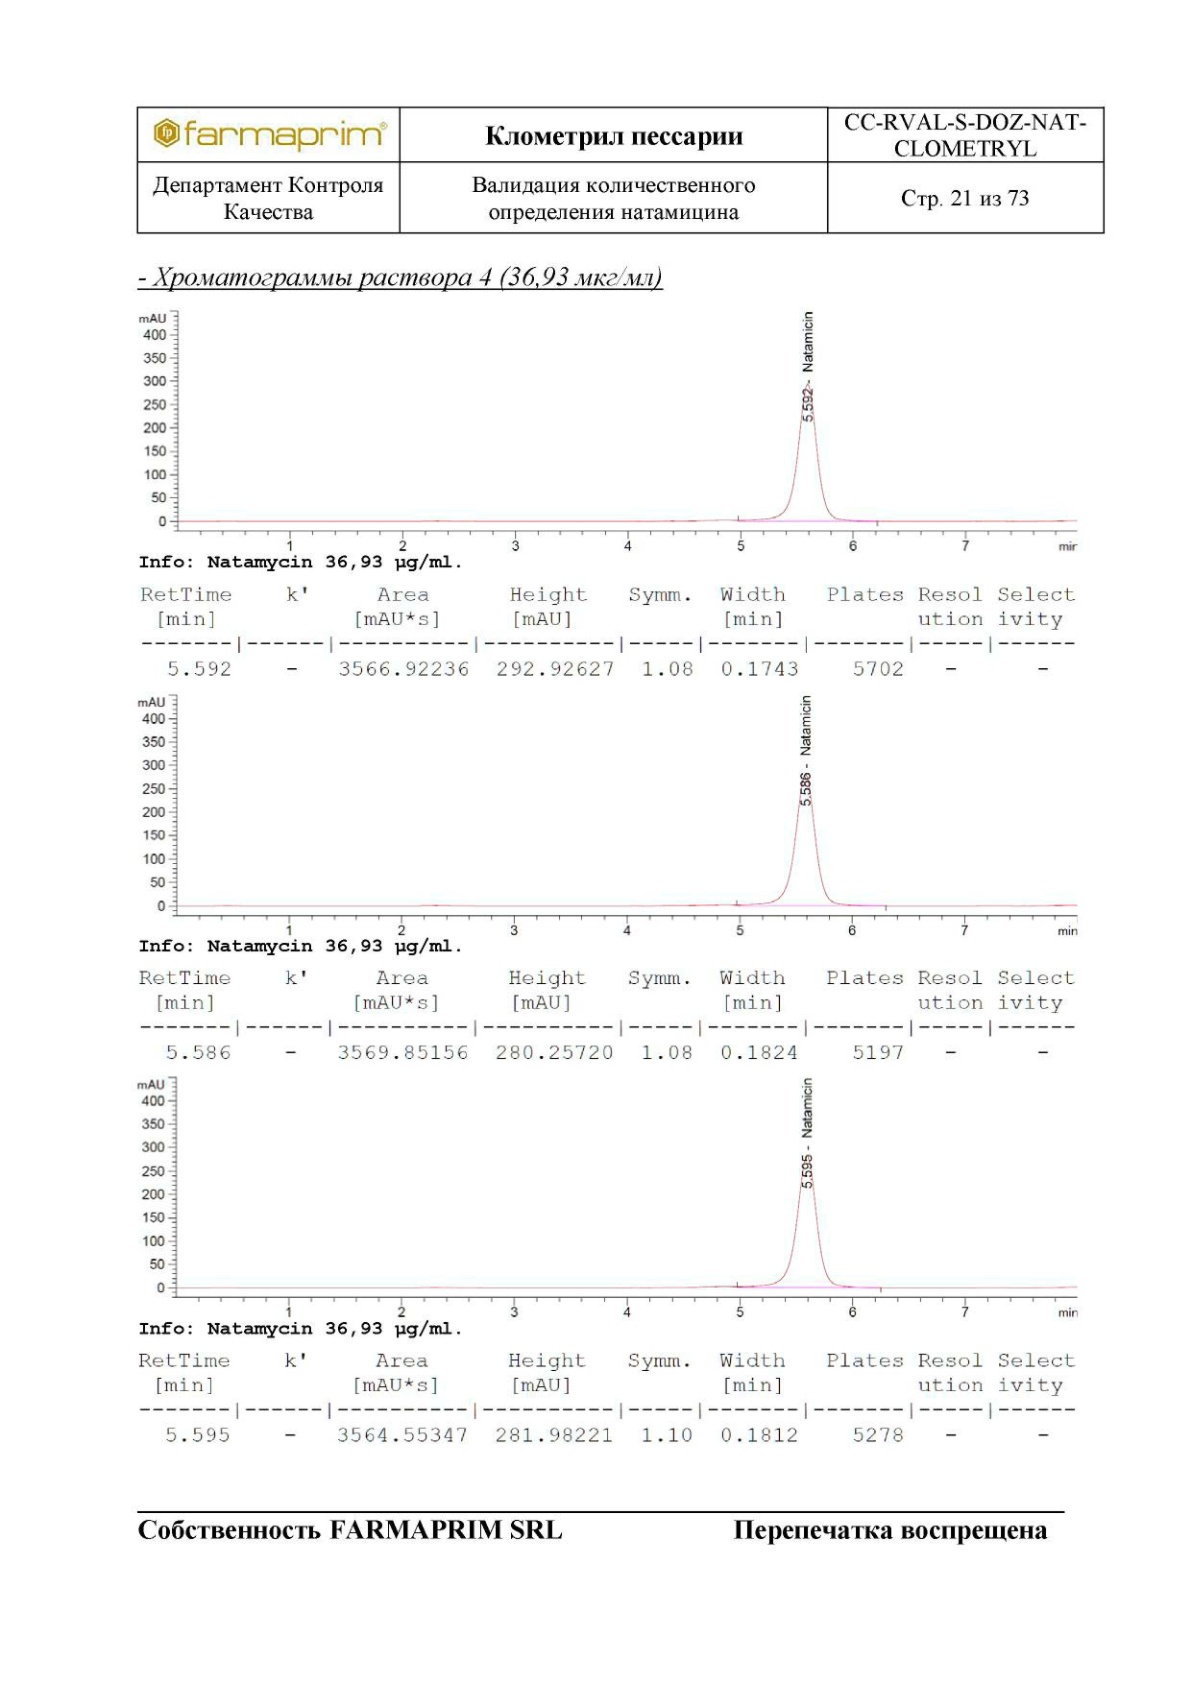full_lined: (135, 106, 1107, 236)
partial_lined: (135, 582, 1078, 683), (135, 964, 1076, 1066), (133, 1347, 1078, 1447)
